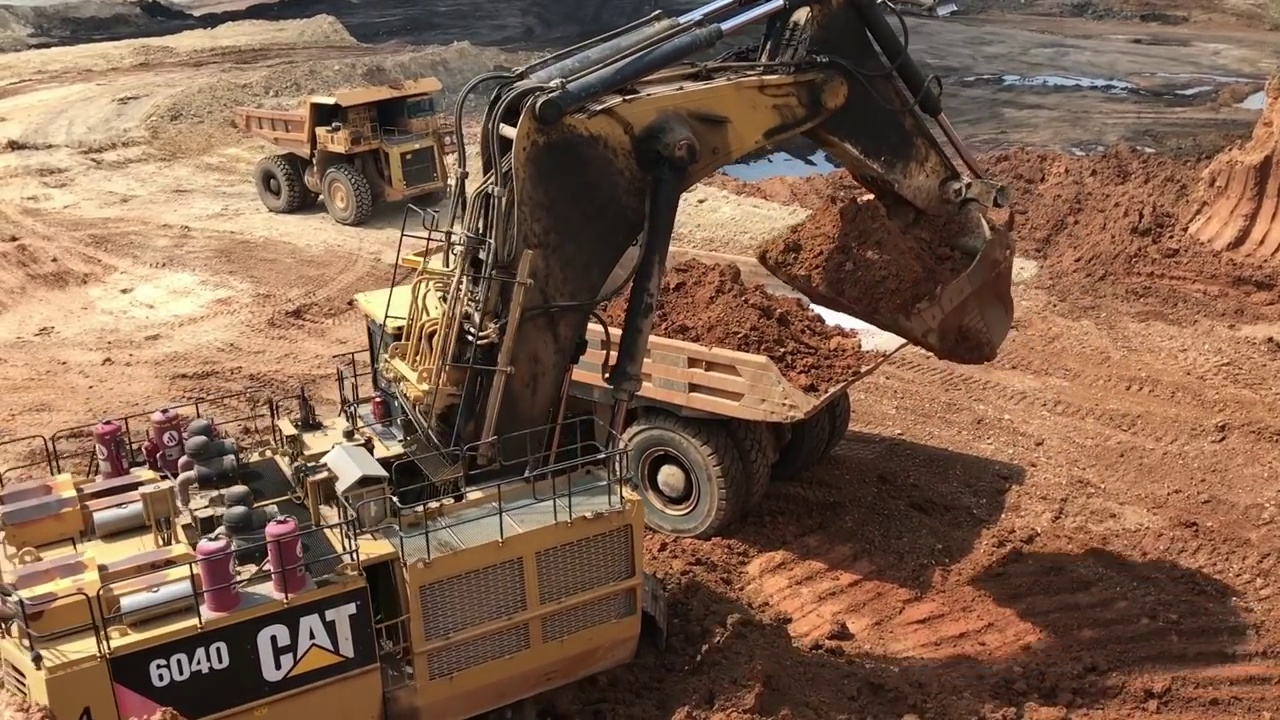dumper: (351, 242, 909, 542), (237, 76, 446, 222)
excavator: (7, 4, 1015, 714)
